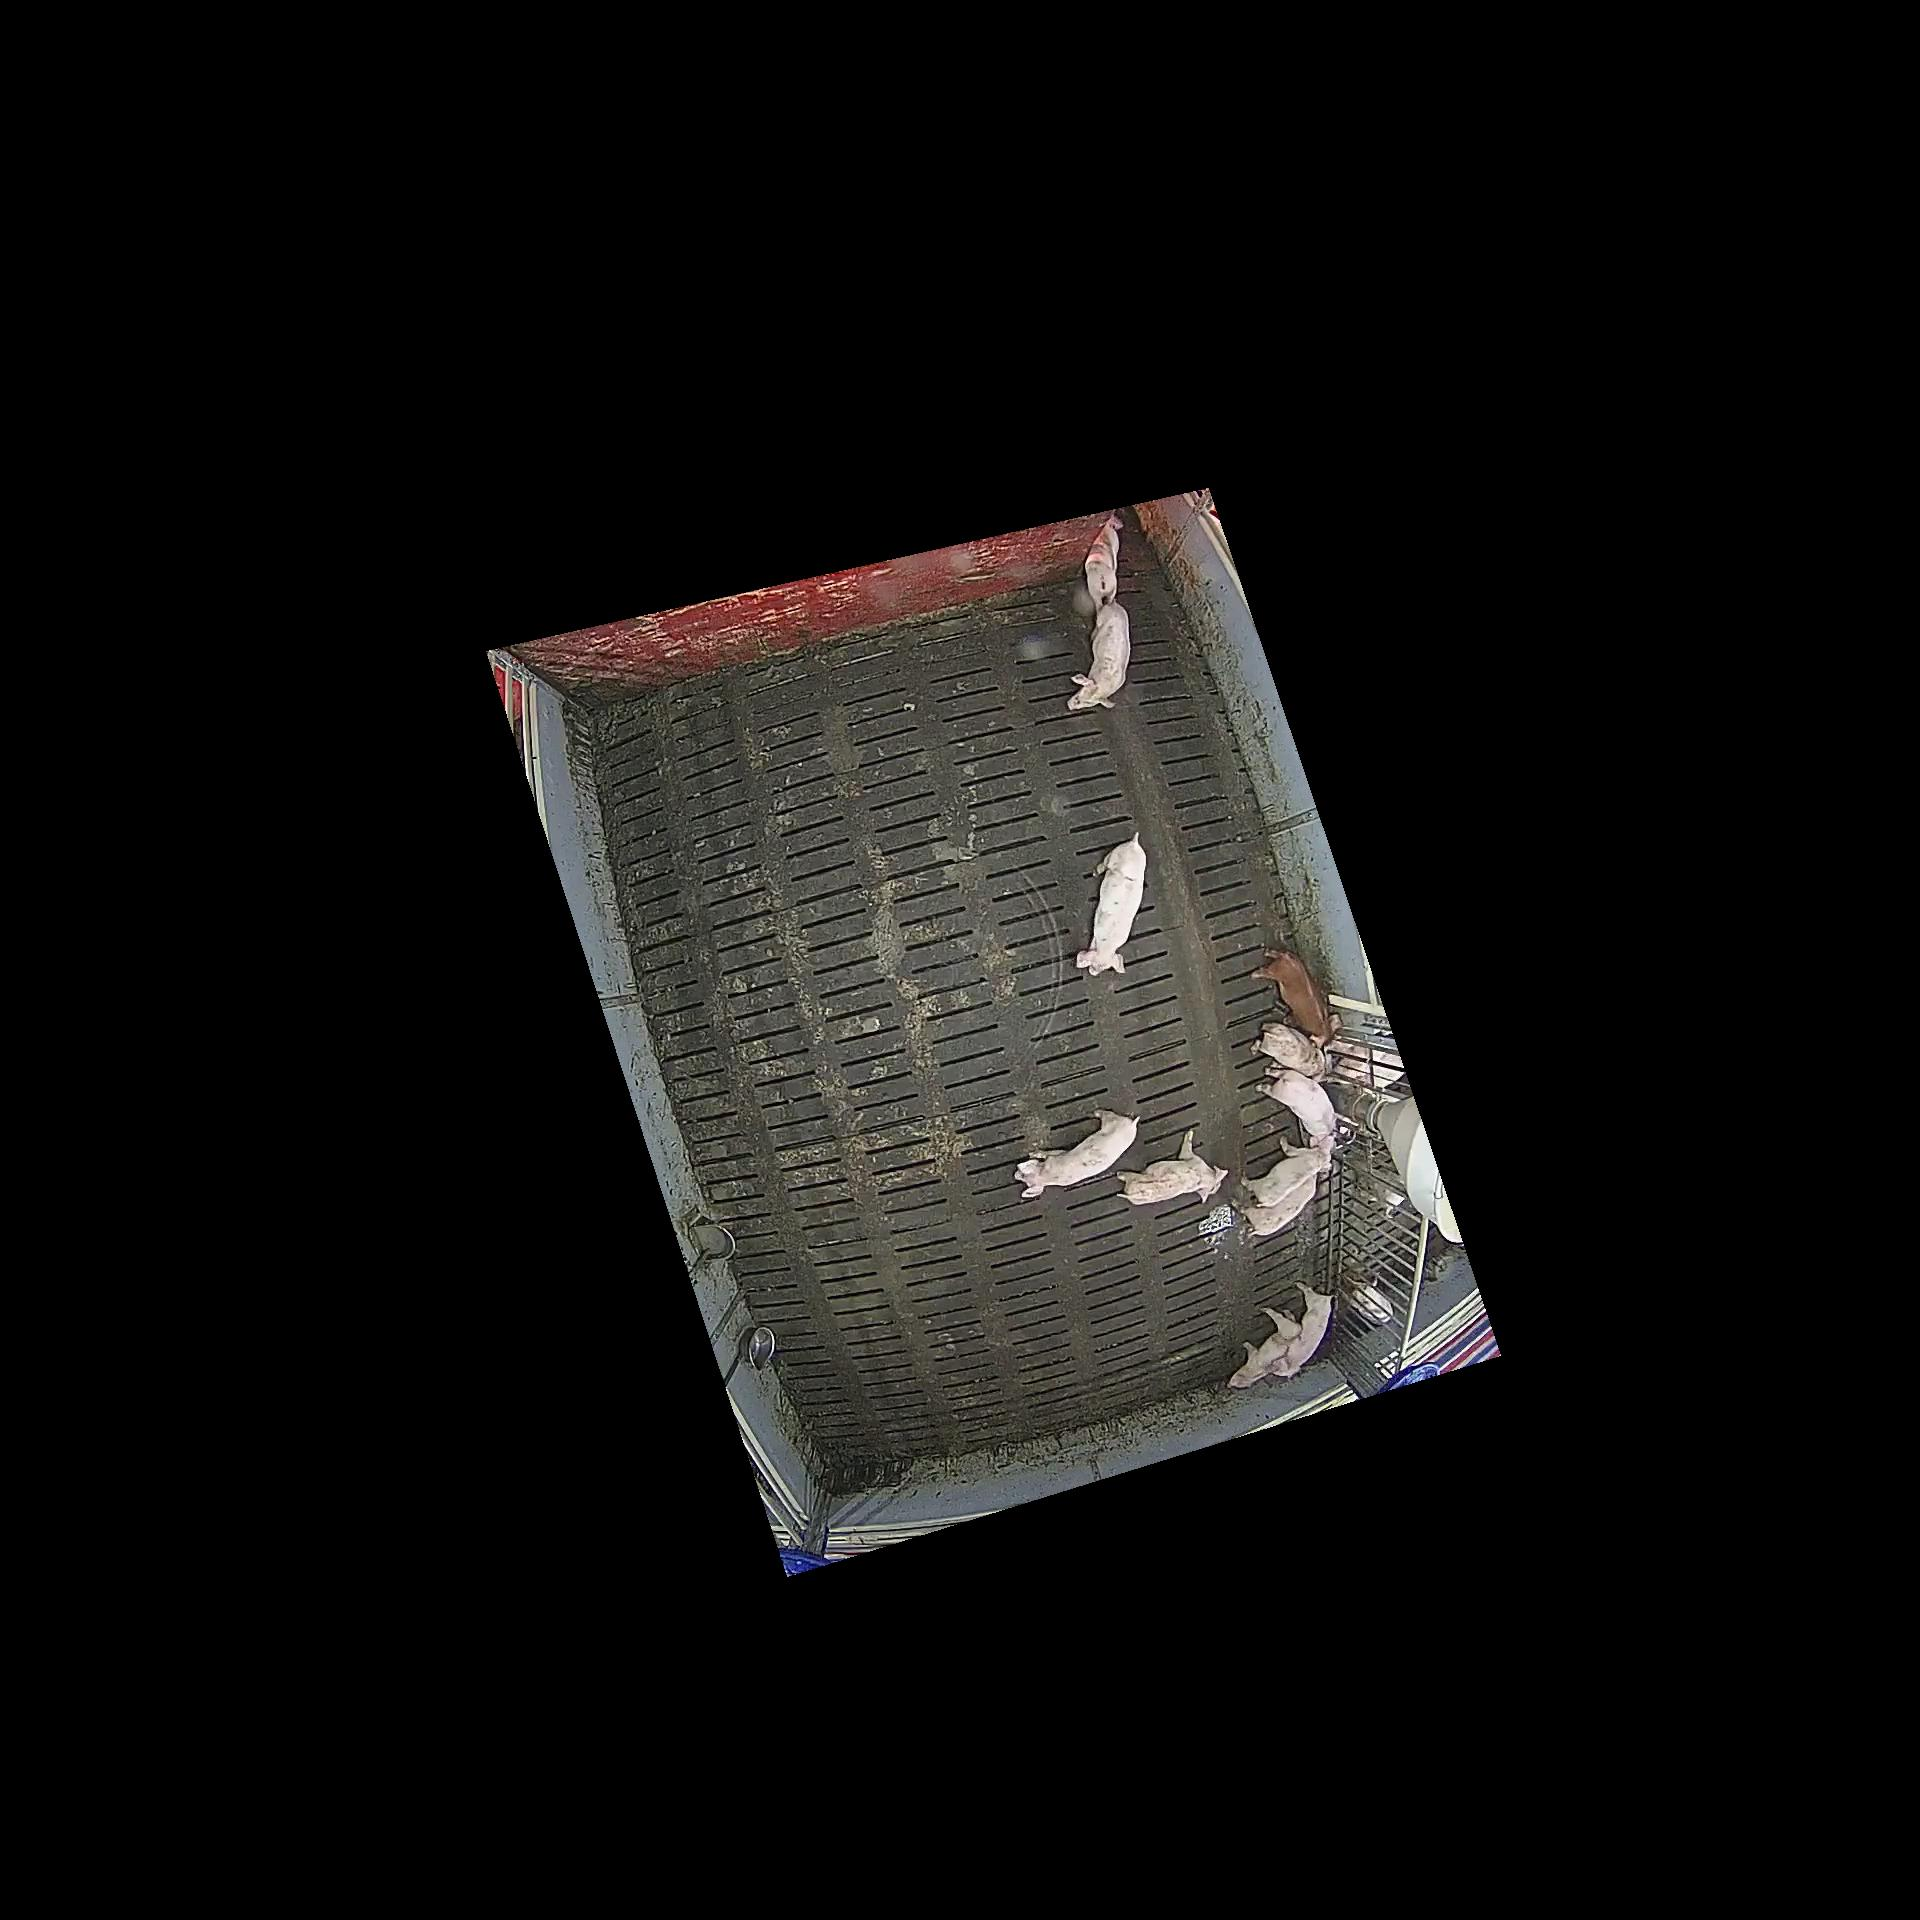pig: (1015, 1108, 1141, 1199), (1076, 832, 1146, 974), (1252, 948, 1342, 1048), (1116, 1129, 1229, 1206), (1067, 601, 1132, 710), (1240, 1136, 1329, 1208), (1255, 1067, 1335, 1141), (1227, 1308, 1301, 1387), (1271, 1282, 1333, 1377), (1233, 1175, 1315, 1238), (1252, 1023, 1326, 1083), (1085, 519, 1122, 608)
